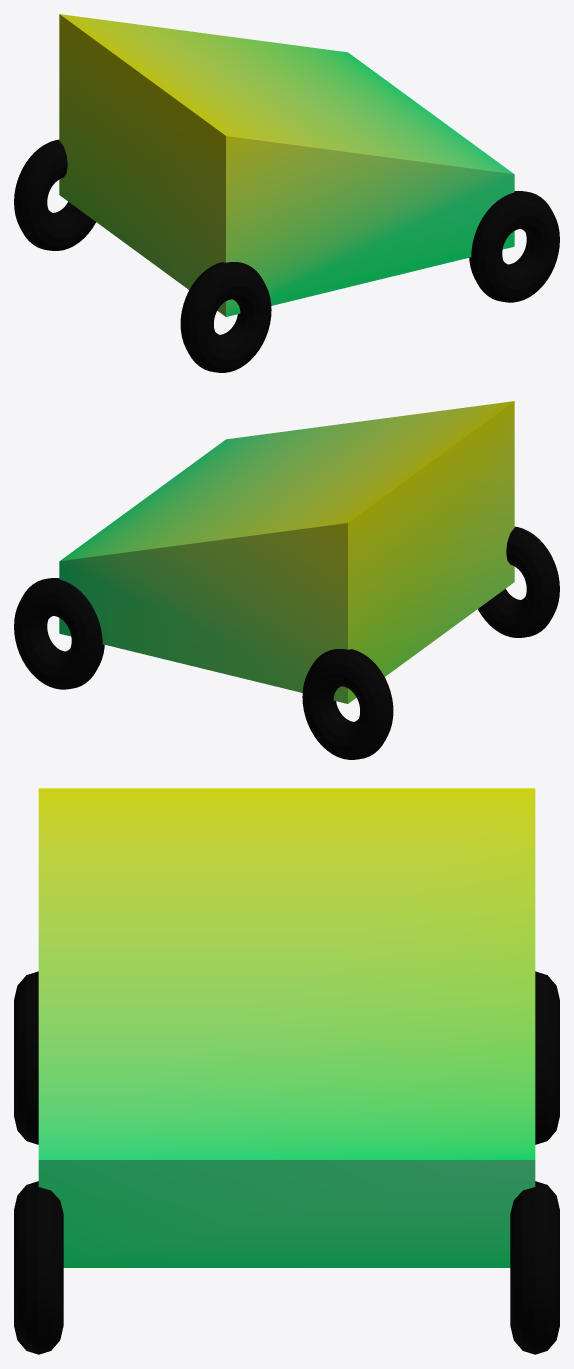
3 renders of one model, top to bottom at view 1: azimuth 30°, elevation 25°; view 2: azimuth 150°, elevation 25°; view 3: azimuth 270°, elevation 25°, orthographic. The views are drawn at different scales.
Visible parts, largest first — view 1: Cube; view 2: Cube; view 3: Cube.
Boxes of the visible parts, x1,y1,x2,y2 form: Cube: [14, 14, 559, 372]; Cube: [14, 401, 559, 759]; Cube: [14, 788, 559, 1354].
Bounding box in the file's own units: 0.65 × 0.55 × 0.39.
